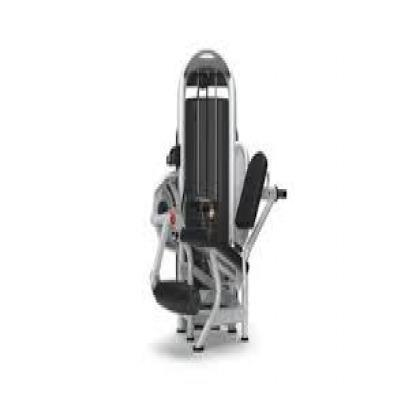leg extension: (143, 43, 293, 388)
